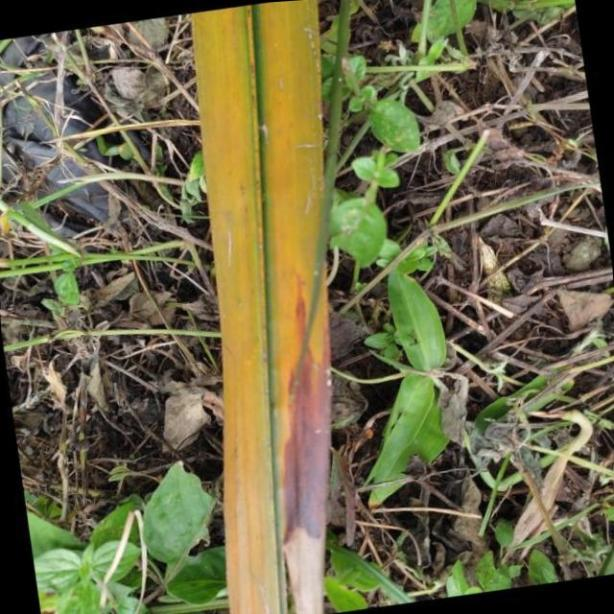Megnesium: (192, 0, 339, 614)
